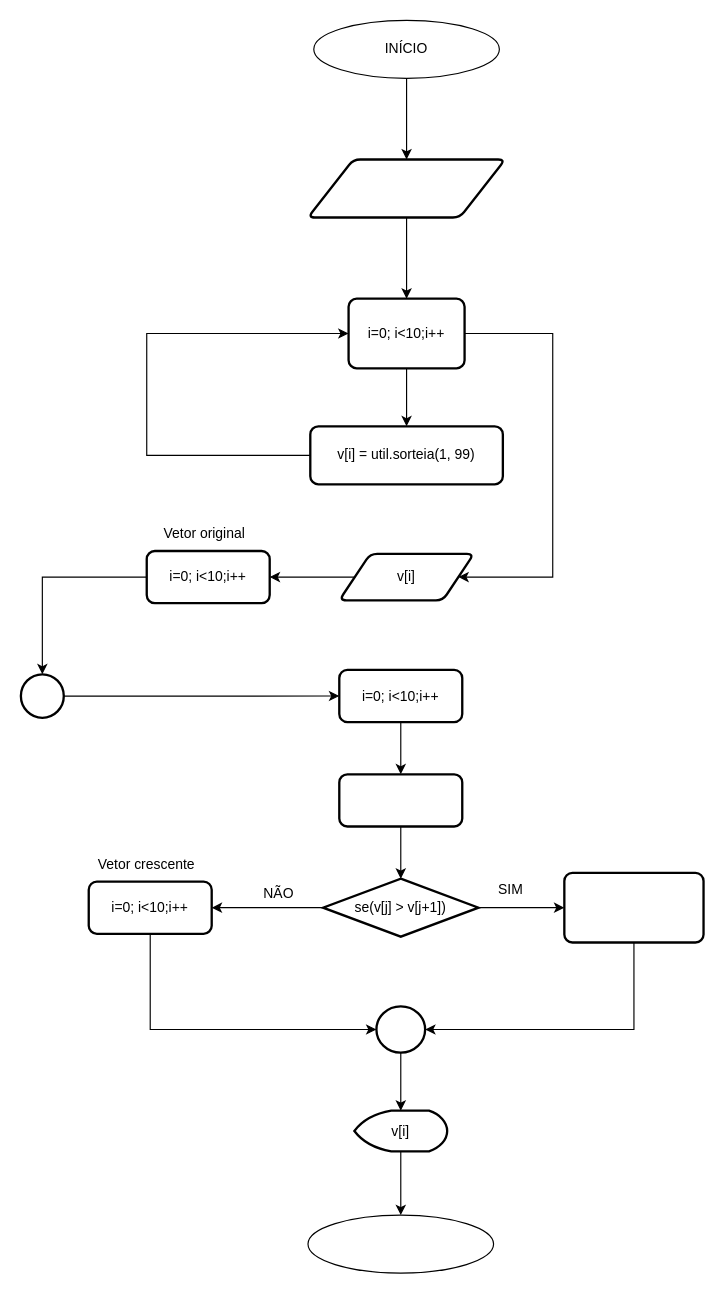
Some shapes in this 725 by 1293 pixel diagram are drawn without their labels. Here are the shapes that lost their labels. From the top down, the centre of each, then its label:
point (406, 188): v[10], i, j, maior=0
point (400, 800): j=0; j<9; j++
point (633, 907): maior = v[j] v[j] = v[j+1] v[j+1] = maior
point (400, 1243): FIM
